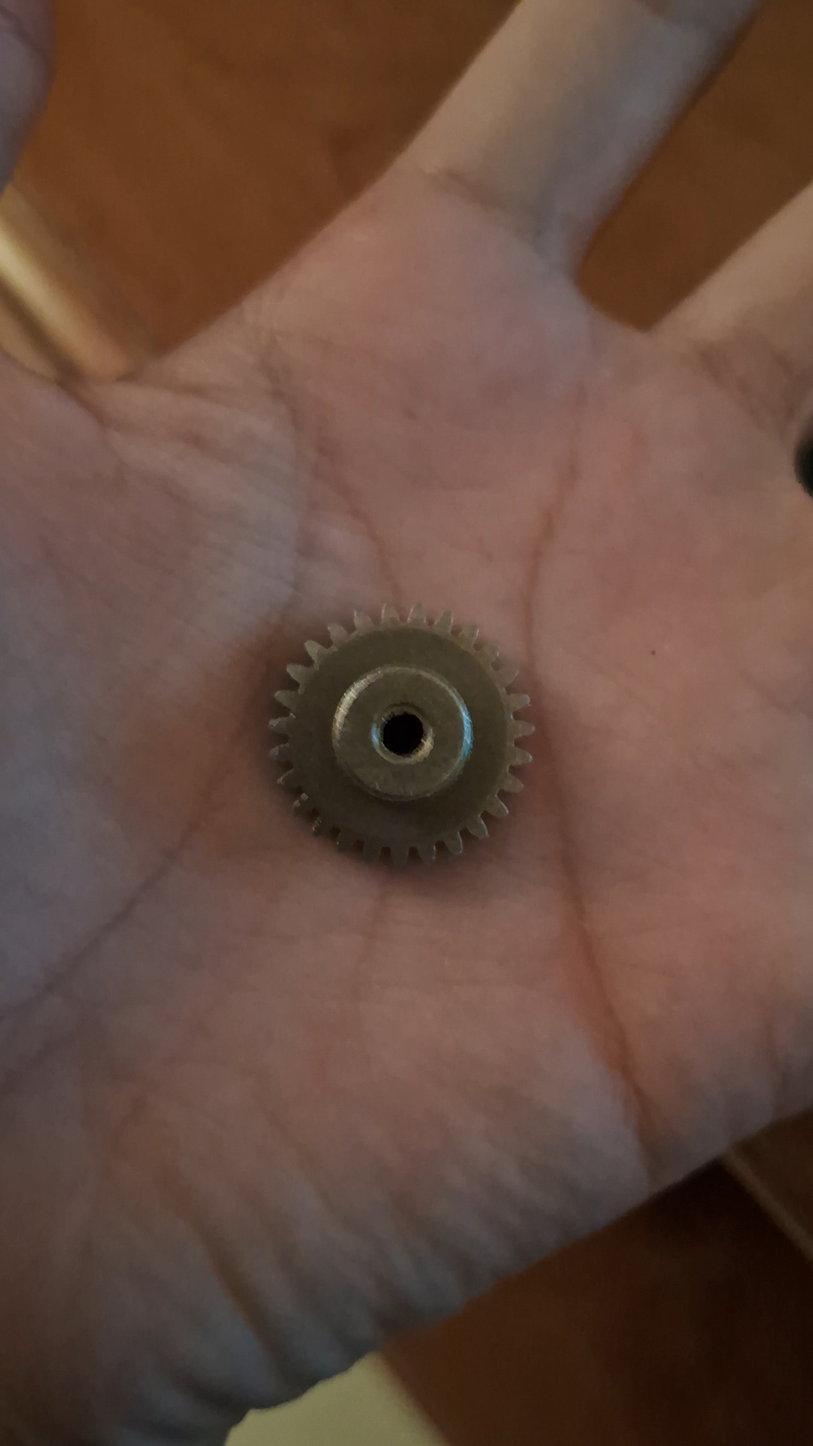spur gear: (271, 606, 533, 864)
